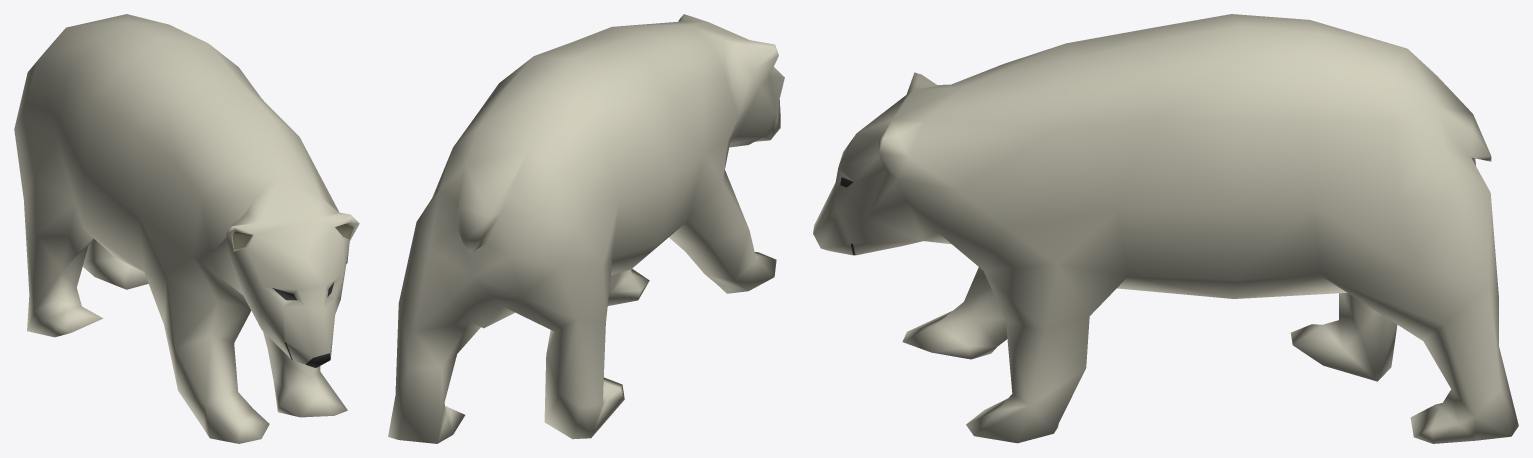
The model's file is polarbear_iki_rig.fbx.
3 views of the same model, side by side, from view 1: azimuth 30°, elevation 25°; view 2: azimuth 150°, elevation 25°; view 3: azimuth 270°, elevation 25° (orthographic). The views are drawn at different scales.
Parts seen in each view (by area): view 1: Plane; view 2: Plane; view 3: Plane.
Part boxes in pixels (x1,y1,x2,y2): Plane: [14, 14, 359, 443]; Plane: [388, 14, 784, 443]; Plane: [813, 14, 1518, 443].
Size of the model in its own units: 163 by 273 by 463.
